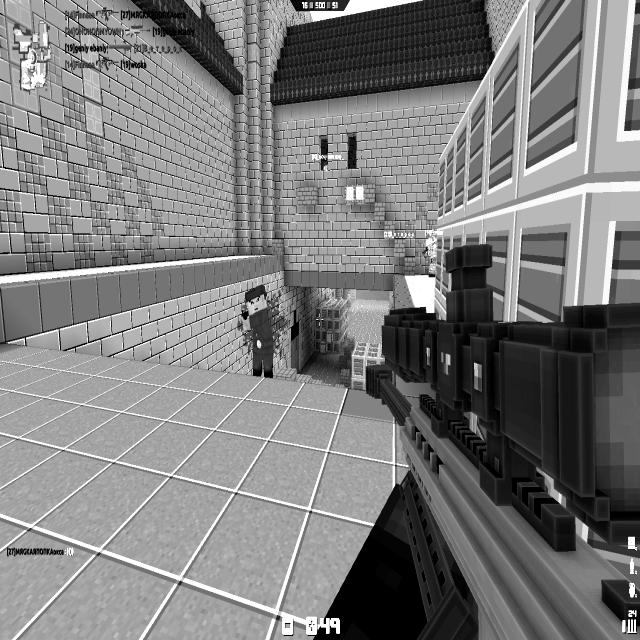Head: (241, 283, 267, 320), (425, 235, 437, 250), (323, 162, 328, 169)
Player: (237, 283, 274, 378), (423, 230, 437, 277), (323, 161, 328, 168)
